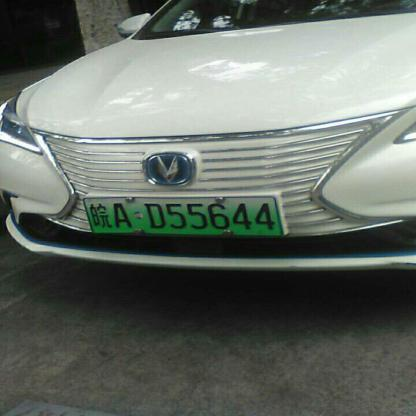lp: (83, 197, 283, 235)
